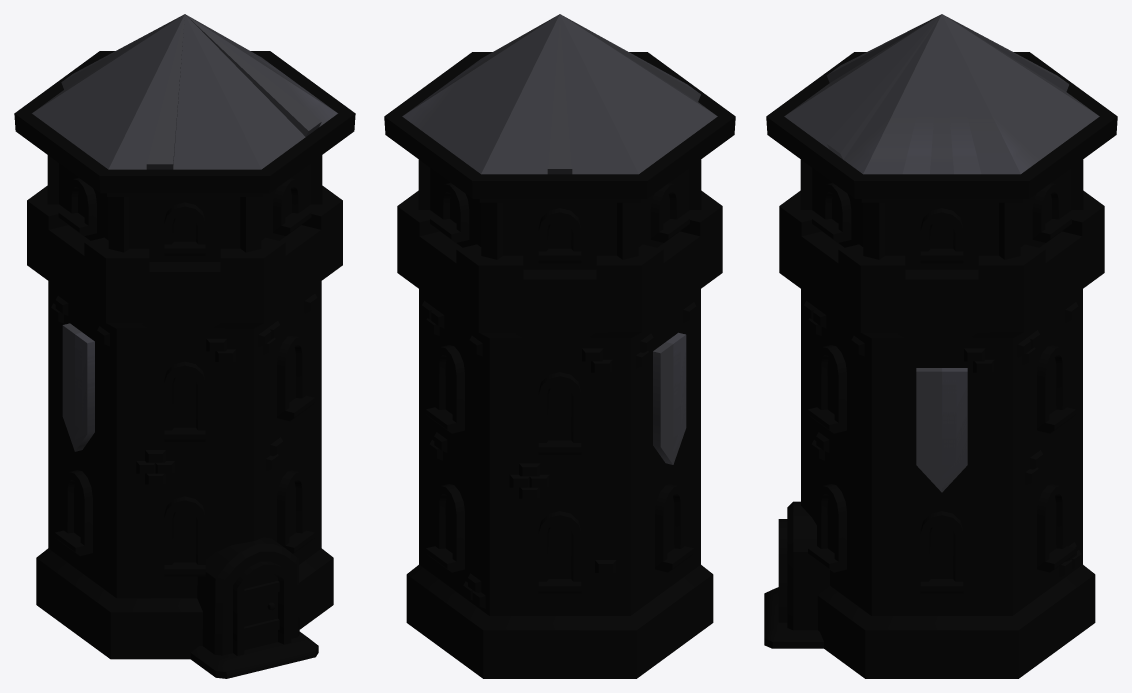
File: watch_tower.glb
3 renders of one model, left to right at view 1: azimuth 30°, elevation 25°; view 2: azimuth 150°, elevation 25°; view 3: azimuth 270°, elevation 25°, orthographic. The views are drawn at different scales.
Parts seen in each view (by area): view 1: building_tower_A_blue, building_tower_A_top_blue; view 2: building_tower_A_blue, building_tower_A_top_blue; view 3: building_tower_A_blue, building_tower_A_top_blue.
Boxes of the visible parts, bbox=[...] form: building_tower_A_blue: bbox=[27, 185, 342, 678]; building_tower_A_top_blue: bbox=[14, 14, 355, 261]; building_tower_A_blue: bbox=[397, 190, 722, 678]; building_tower_A_top_blue: bbox=[384, 14, 735, 269]; building_tower_A_blue: bbox=[764, 190, 1104, 678]; building_tower_A_top_blue: bbox=[766, 14, 1117, 269].
Size of the model in its own units: 0.9933 by 2.19 by 1.15.
Materials: 1 (1 with a texture image).
